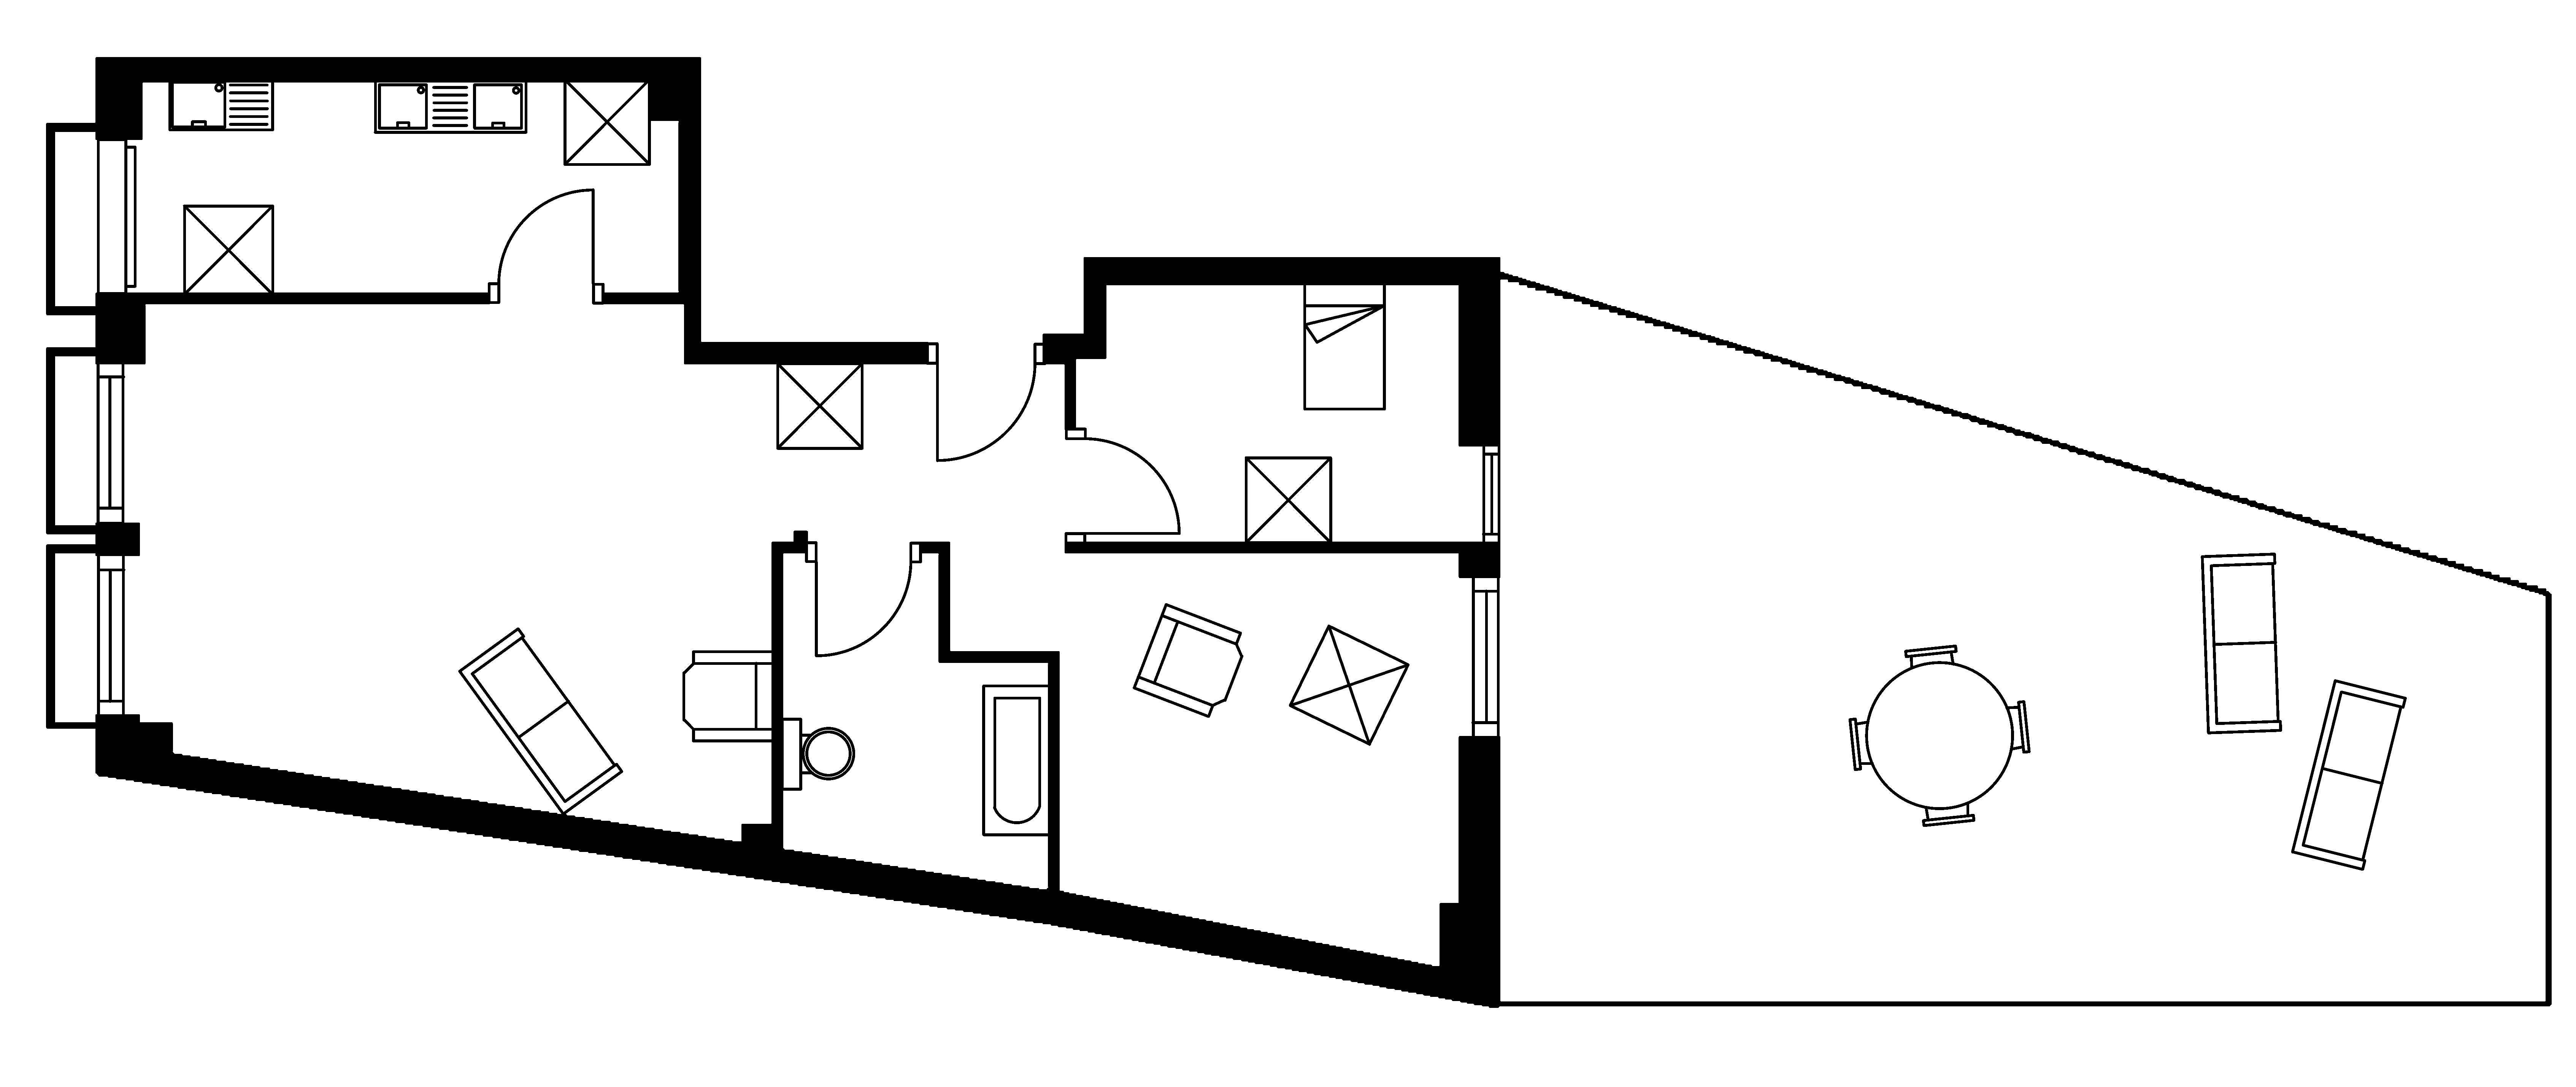armchair: (1132, 602, 1244, 719), (682, 650, 774, 743)
bed: (1303, 281, 1387, 411)
coffee_table: (1288, 623, 1410, 747), (182, 204, 274, 296), (562, 77, 651, 166), (775, 362, 864, 451), (1244, 456, 1332, 544)
large_sink: (780, 717, 854, 791)
large_sofa: (457, 627, 623, 816), (2290, 679, 2407, 872), (2200, 553, 2282, 735)
round_table: (1848, 645, 2031, 827)
sink: (168, 77, 274, 132)
tub: (981, 684, 1051, 837)
twin_sink: (373, 77, 527, 133)
